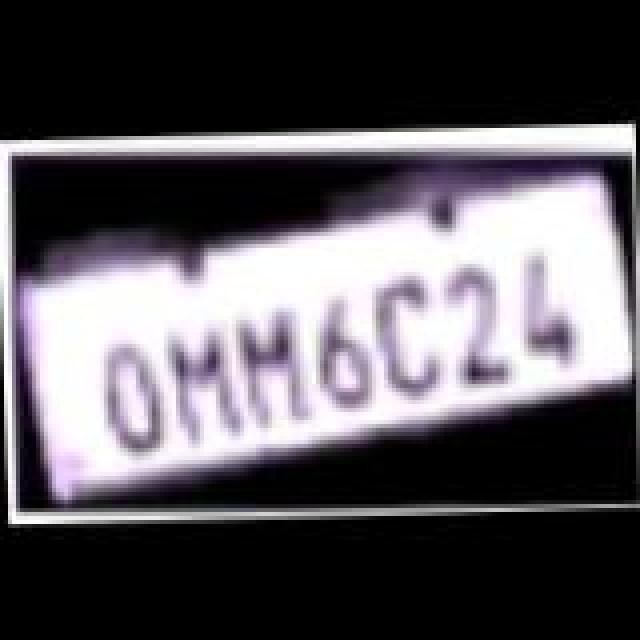2: (424, 256, 528, 392)
4: (496, 244, 592, 372)
6: (292, 292, 392, 416)
C: (360, 268, 464, 400)
M: (150, 322, 254, 450), (222, 304, 326, 432)
O: (86, 332, 182, 456)
